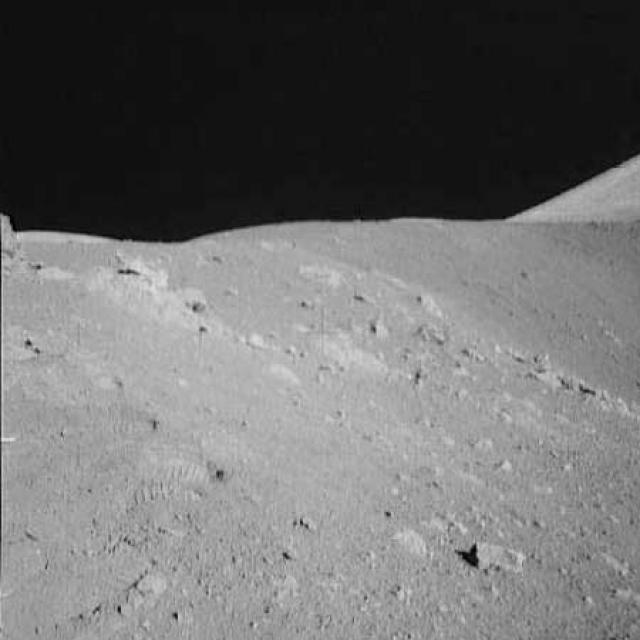rock: (464, 529, 526, 576), (0, 210, 27, 261), (410, 318, 446, 346), (522, 346, 555, 372), (366, 318, 392, 343)
